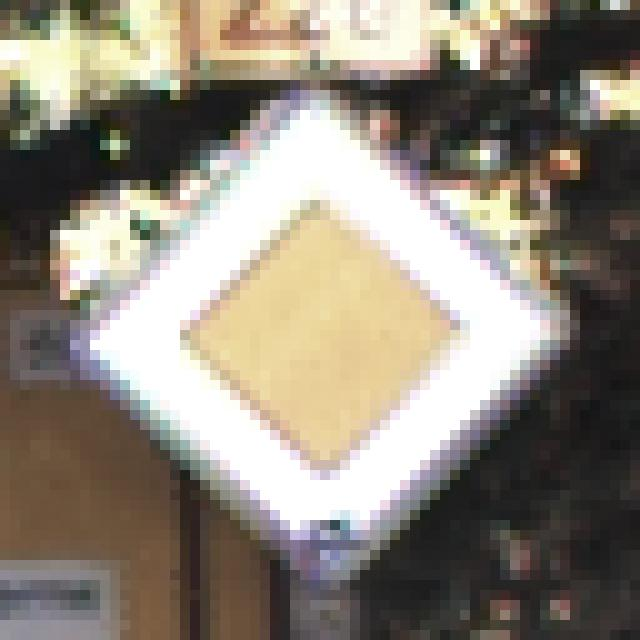Main Road: (51, 61, 591, 591)
